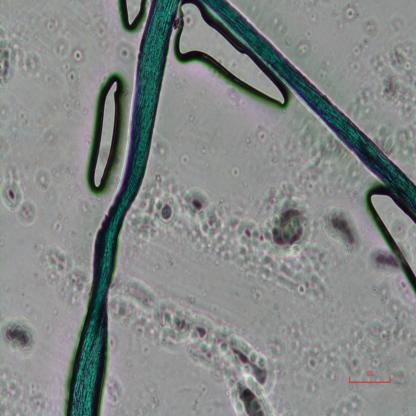Air bubble: (176, 4, 287, 107), (365, 190, 416, 294), (85, 69, 125, 191), (118, 1, 148, 34)
Background material: (178, 307, 276, 414), (293, 302, 416, 387), (367, 24, 416, 156), (107, 266, 181, 352), (258, 187, 319, 274), (148, 172, 216, 247), (214, 198, 262, 295), (287, 135, 351, 192), (38, 246, 92, 309), (0, 359, 47, 412), (0, 302, 44, 358), (0, 171, 39, 228), (322, 201, 363, 254), (274, 260, 325, 302), (347, 21, 375, 74), (0, 36, 20, 91), (0, 103, 34, 135), (88, 17, 114, 48), (368, 244, 396, 272), (22, 50, 42, 81), (148, 138, 176, 159), (223, 159, 248, 182), (290, 39, 315, 61), (108, 376, 127, 402), (55, 34, 73, 58), (45, 7, 62, 32), (115, 39, 134, 60), (341, 3, 360, 24), (36, 166, 52, 190), (256, 123, 270, 145), (71, 45, 85, 66), (65, 66, 79, 84), (50, 219, 62, 238)
Microfibre: (64, 0, 181, 414), (202, 0, 416, 210)
